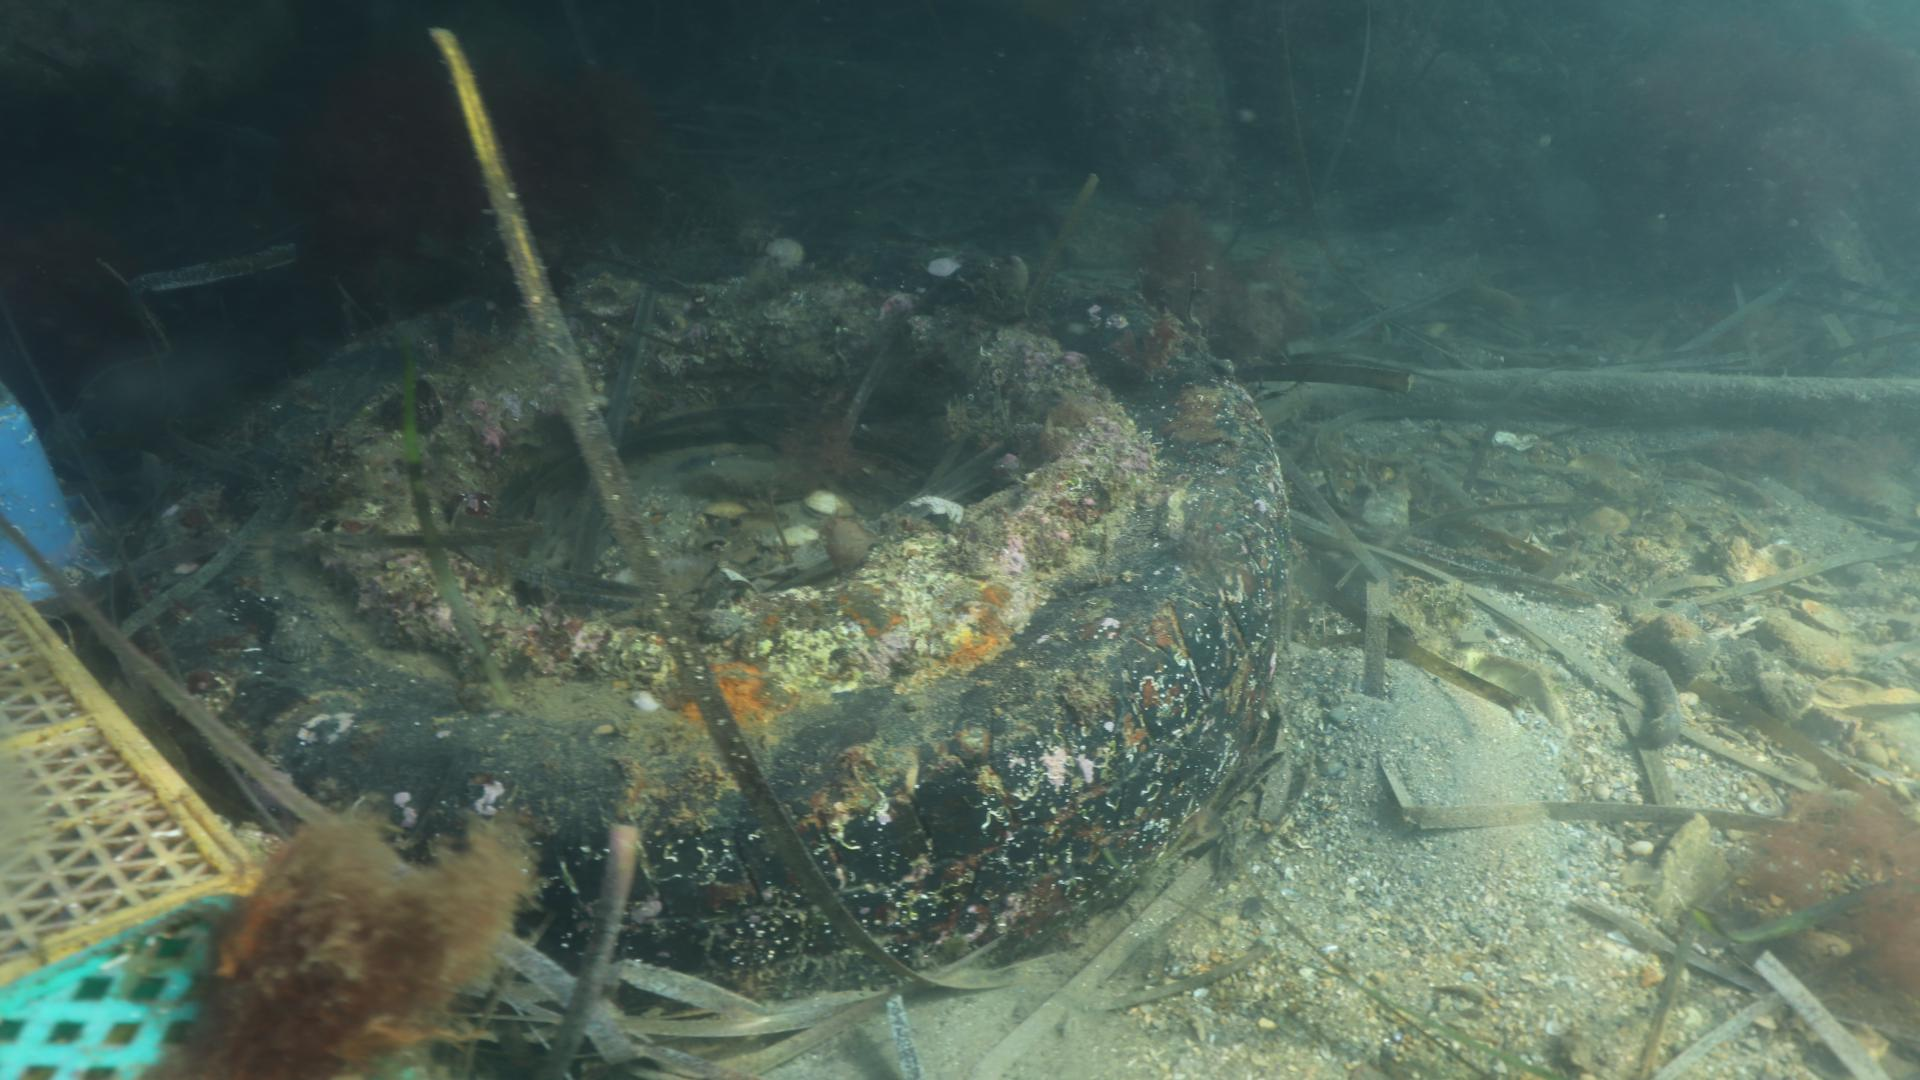tire: (133, 236, 1290, 996)
